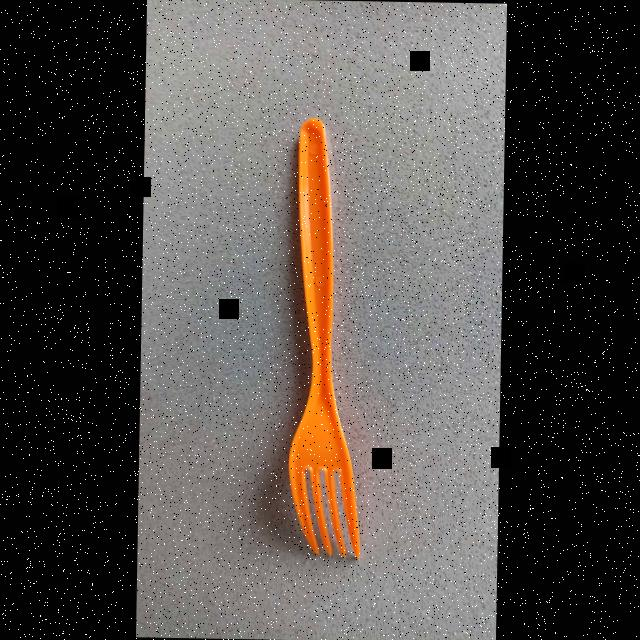plastic_cultery: (284, 116, 372, 564)
